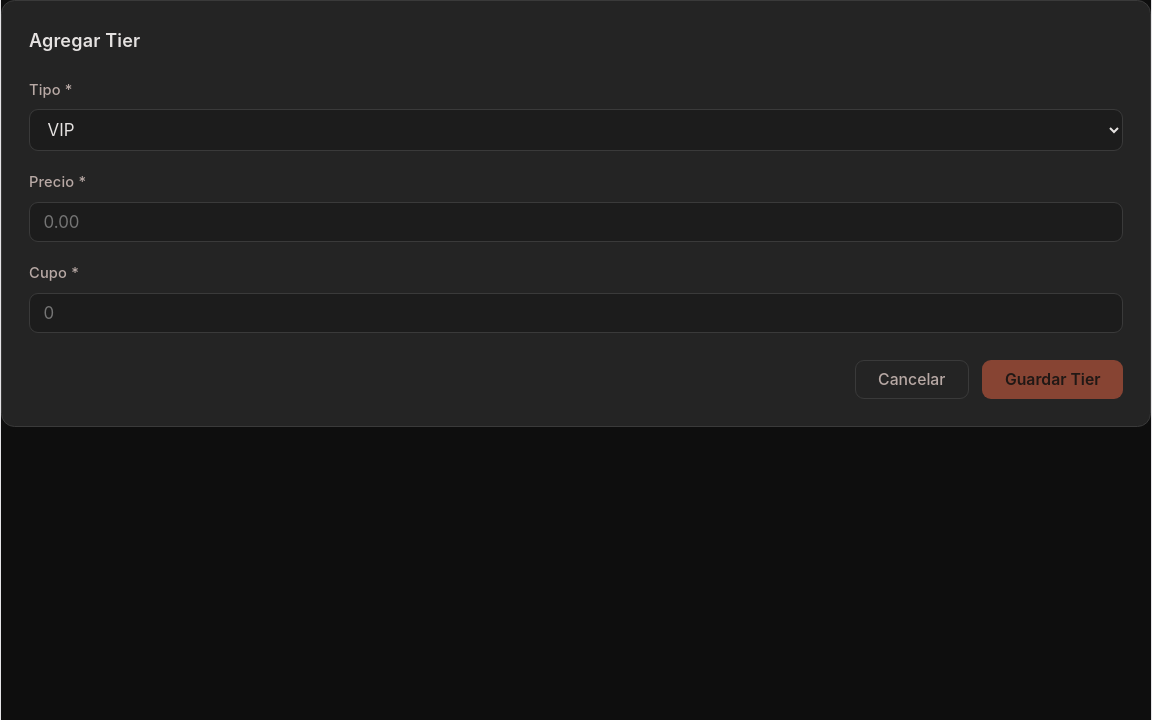
Test case: TierForm › shows validFrom/validUntil fields only when EARLY_BIRD selected
Expected: the field labelled "fecha de inicio" is not shown
Expected: the field labelled "fecha de fin" is not shown
Note: user selects EARLY_BIRD
Select "EARLY BIRD" in the dropdown at (576,130), box [29,109,1123,151]
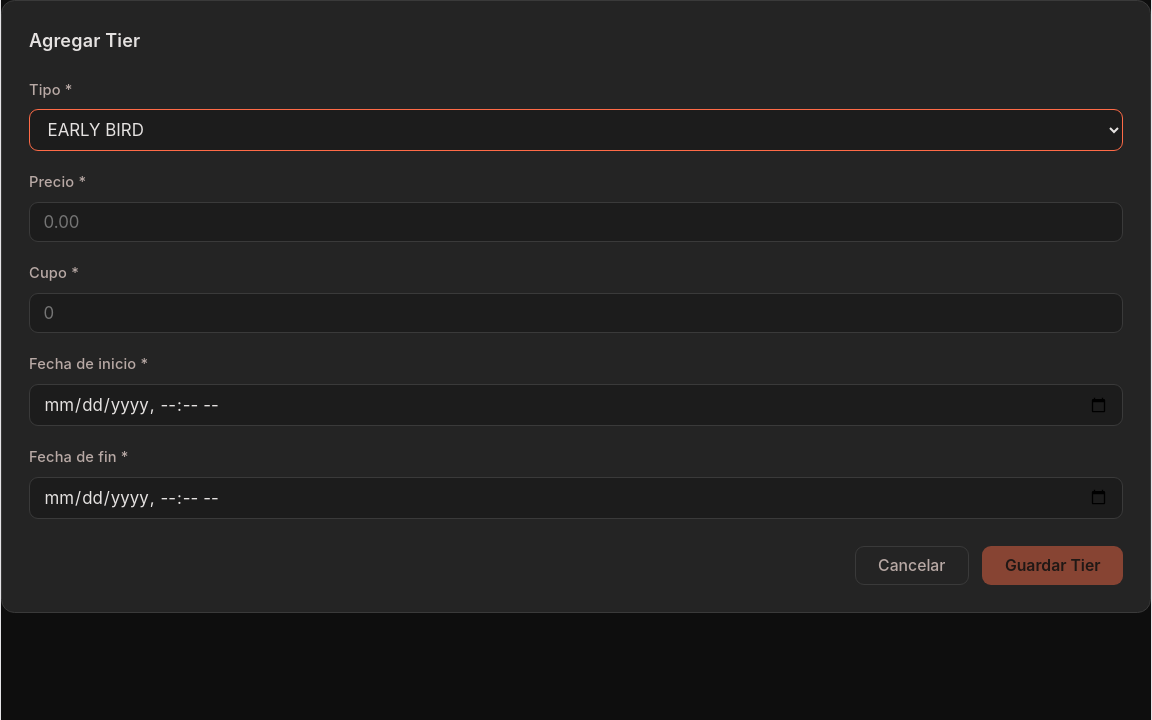
Expected: the field labelled "Fecha de inicio *" is shown, [29,384,1123,426]
Expected: the field labelled "Fecha de fin *" is shown, [29,477,1123,519]
